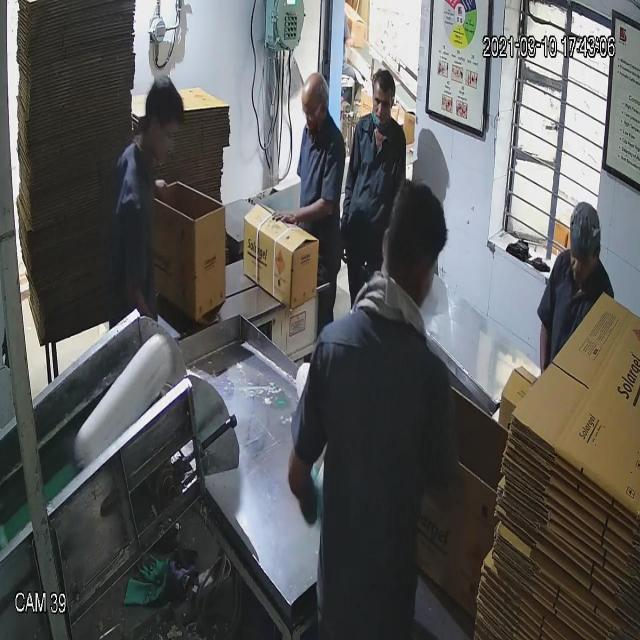No_Gloves: (271, 196, 342, 234)
